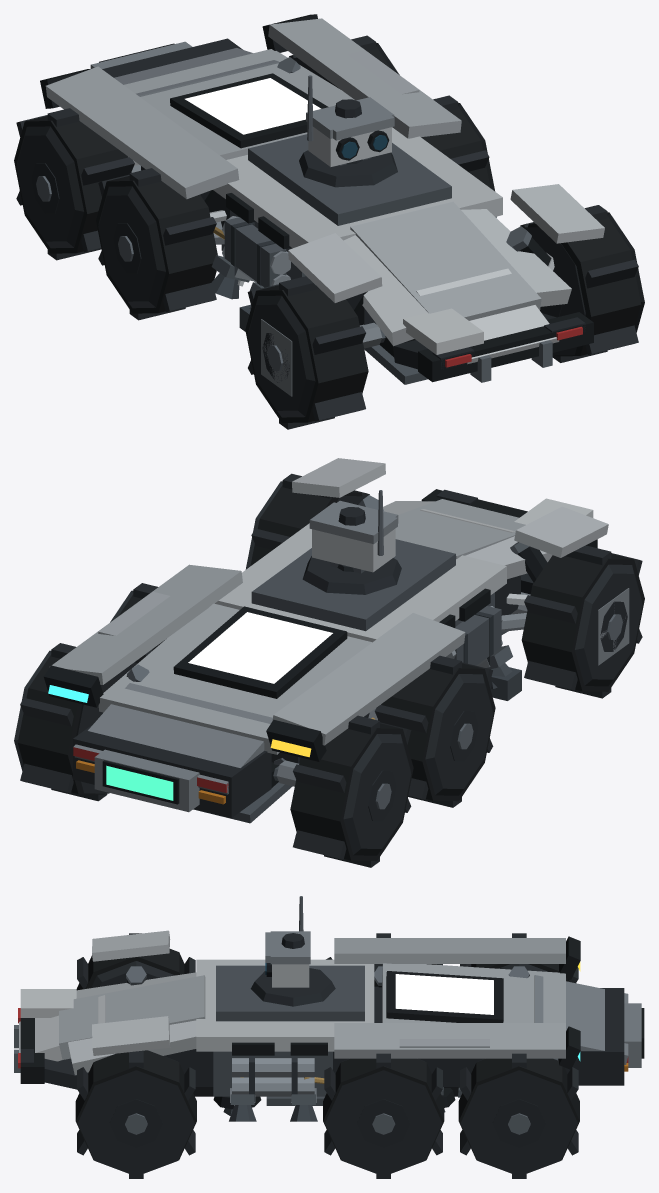
Rendered from r47xs_recon_rover_d0_lod1.glb.
The picture shows the model from 3 angles, top to bottom: view 1: azimuth 30°, elevation 25°; view 2: azimuth 150°, elevation 25°; view 3: azimuth 270°, elevation 25°; orthographic projection. The views are drawn at different scales.
Visible parts, largest first — view 1: ZONE_FRONT_BUMPER, CHASSIS_ARMOR_BODY, WHEEL_ML, WHEEL_FL, ZONE_FLANK_NEG_X, WHEEL_RL, WHEEL_FR, ZONE_FLANK_POS_X, DISPLAY_FDAI_TELEMETRY_PANEL, ZONE_REAR_PANEL, SENSOR_MAST_HEAD, WHEEL_MR (+8 smaller); view 2: CHASSIS_ARMOR_BODY, ZONE_REAR_PANEL, WHEEL_FL, WHEEL_RL, ZONE_FRONT_BUMPER, ZONE_FLANK_NEG_X, WHEEL_ML, ZONE_FLANK_POS_X, WHEEL_RR, DISPLAY_FDAI_TELEMETRY_PANEL, SENSOR_MAST_HEAD, WHEEL_FR (+11 smaller); view 3: CHASSIS_ARMOR_BODY, ZONE_FRONT_BUMPER, ZONE_FLANK_POS_X, WHEEL_FR, WHEEL_MR, WHEEL_RR, ZONE_REAR_PANEL, ZONE_FLANK_NEG_X, DISPLAY_FDAI_TELEMETRY_PANEL, WHEEL_FL, SENSOR_MAST_HEAD, DEBRIS_FRONT_BEAK (+5 smaller).
Part boxes in pixels (x1,y1,x2,y2): ZONE_FRONT_BUMPER: (288,184,604,384); CHASSIS_ARMOR_BODY: (124,49,502,357); WHEEL_ML: (96,168,217,320); WHEEL_FL: (245,276,368,429); ZONE_FLANK_NEG_X: (40,66,305,285); WHEEL_RL: (14,108,134,260); WHEEL_FR: (520,205,644,362); ZONE_FLANK_POS_X: (262,14,496,217); DISPLAY_FDAI_TELEMETRY_PANEL: (185,78,321,134); ZONE_REAR_PANEL: (90,38,278,96); SENSOR_MAST_HEAD: (306,75,394,166); WHEEL_MR: (421,95,495,191); CHASSIS_ARMOR_BODY: (98,523,520,787); ZONE_REAR_PANEL: (73,683,292,823); WHEEL_FL: (521,545,644,698); WHEEL_RL: (290,715,413,867); ZONE_FRONT_BUMPER: (292,458,608,634); ZONE_FLANK_NEG_X: (266,588,502,761); WHEEL_ML: (374,655,495,807); ZONE_FLANK_POS_X: (43,564,242,707); WHEEL_RR: (14,643,137,801); DISPLAY_FDAI_TELEMETRY_PANEL: (188,612,332,683); SENSOR_MAST_HEAD: (309,490,397,573); WHEEL_FR: (245,473,369,569); CHASSIS_ARMOR_BODY: (163,959,565,1105); ZONE_FRONT_BUMPER: (14,930,205,1089); ZONE_FLANK_POS_X: (213,1023,580,1109); WHEEL_FR: (75,1050,196,1178); WHEEL_MR: (323,1053,444,1178); WHEEL_RR: (458,1053,579,1178); ZONE_REAR_PANEL: (458,975,644,1097); ZONE_FLANK_NEG_X: (334,936,580,979); DISPLAY_FDAI_TELEMETRY_PANEL: (395,974,493,1014); WHEEL_FL: (76,933,195,990); SENSOR_MAST_HEAD: (265,896,310,987); DEBRIS_FRONT_BEAK: (20,989,76,1017).
Bounding box in the file's own units: 2.43 × 1.69 × 4.74.
